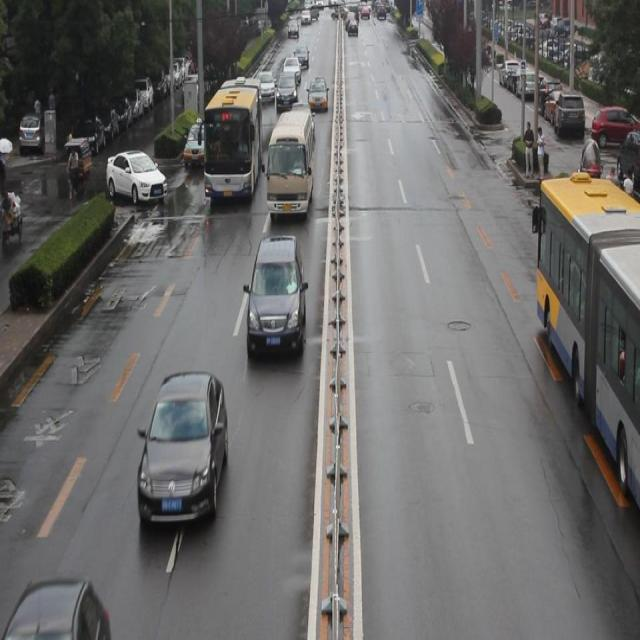car: (137, 371, 224, 524), (248, 232, 304, 358), (1, 577, 109, 640), (106, 151, 168, 206), (183, 126, 216, 176)
truck: (267, 111, 312, 221)
van: (531, 183, 640, 519), (205, 77, 262, 206)
